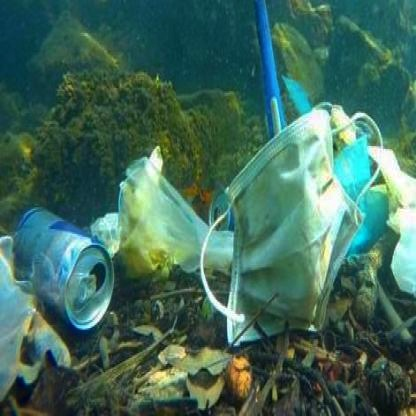Mask: (206, 105, 382, 336)
